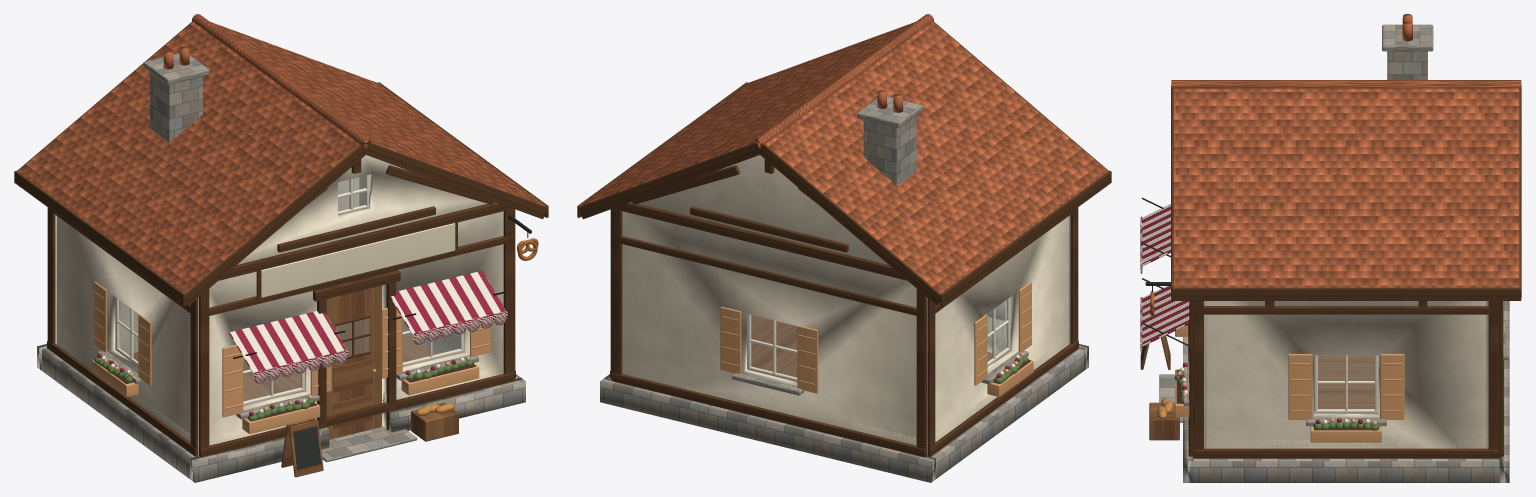
File: building_bakery.glb
3 renders of one model, left to right at view 1: azimuth 30°, elevation 25°; view 2: azimuth 150°, elevation 25°; view 3: azimuth 270°, elevation 25°, orthographic. The views are drawn at different scales.
Parts seen in each view (by area): view 1: roof, wall_front, wall_left, base, door, wall_front_low, wall_left_low, wall_back, wall_right; view 2: wall_back, roof, wall_left, wall_back_low, base, wall_left_low, wall_front; view 3: roof, wall_right, wall_front, base, wall_back, wall_right_low.
Boxes of the visible parts, box(x1,y1,x2,y2) form: roof: box(14, 14, 548, 306); wall_front: box(190, 155, 538, 482); wall_left: box(42, 207, 198, 478); base: box(128, 330, 458, 477); door: box(326, 285, 381, 439); wall_front_low: box(191, 366, 525, 482); wall_left_low: box(44, 334, 198, 457); wall_back: box(37, 177, 359, 370); wall_right: box(359, 176, 515, 378); wall_back: box(600, 155, 935, 482); roof: box(577, 14, 1111, 306); wall_left: box(927, 207, 1083, 478); wall_back_low: box(600, 366, 935, 482); base: box(751, 315, 997, 377); wall_left_low: box(927, 335, 1081, 455); wall_front: box(987, 215, 1088, 370); roof: box(1171, 14, 1521, 300); wall_right: box(1193, 301, 1499, 482); wall_front: box(1140, 197, 1206, 482); base: box(1140, 335, 1374, 440); wall_back: box(1486, 301, 1509, 482); wall_right_low: box(1193, 440, 1499, 449).
Bounding box in the file's own units: 6.41 × 5.57 × 5.6.
Materials: 22 (7 with a texture image).
